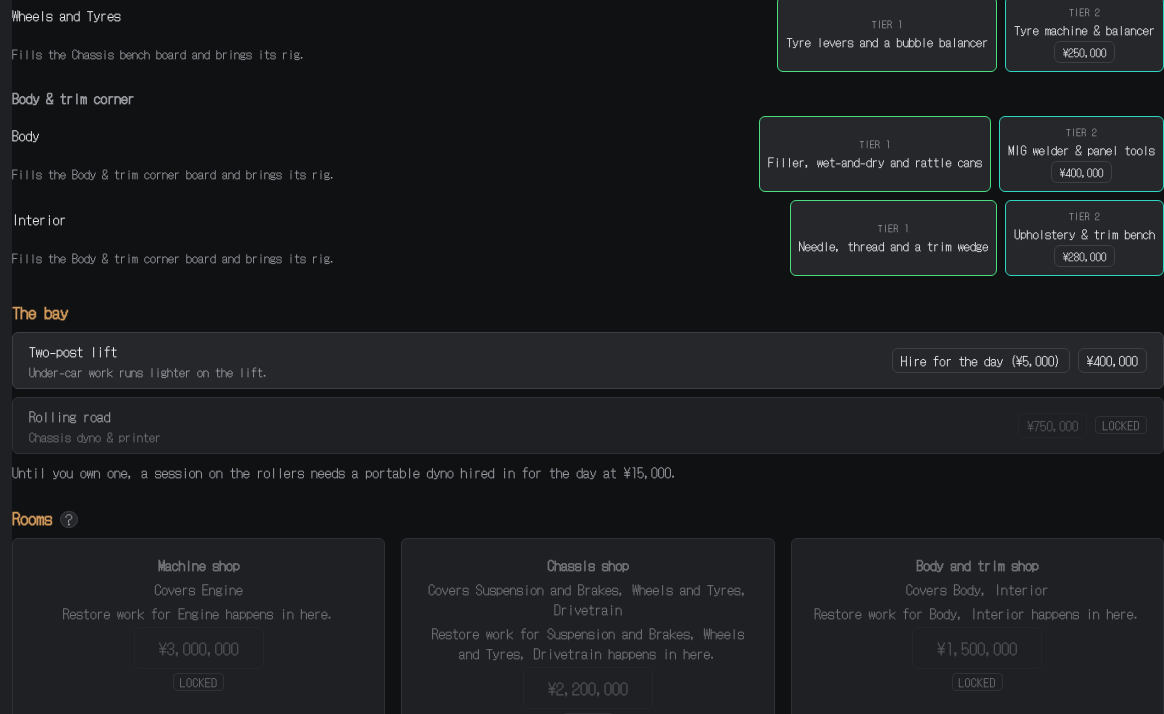
Test case: UpgradesScreen › the lift row buys through buyLift and enforces its reputation and cash gates
This screenshot has width=1164, height=714.
(page scrolled)
Click the button with test id "buy-lift" at (1112, 360), box x1=1078 y1=348 x2=1147 y2=373
(page scrolled)
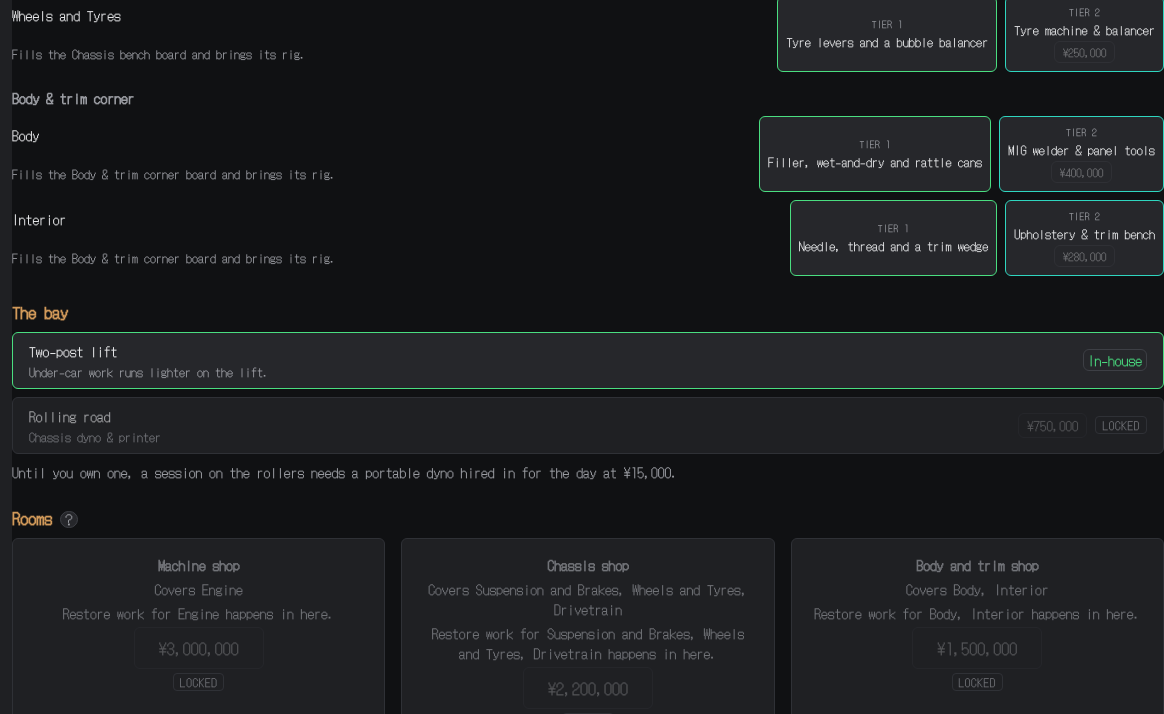
Check: the text with test id "lift-chip" reads "In-house", box x1=1088 y1=350 x2=1142 y2=370
